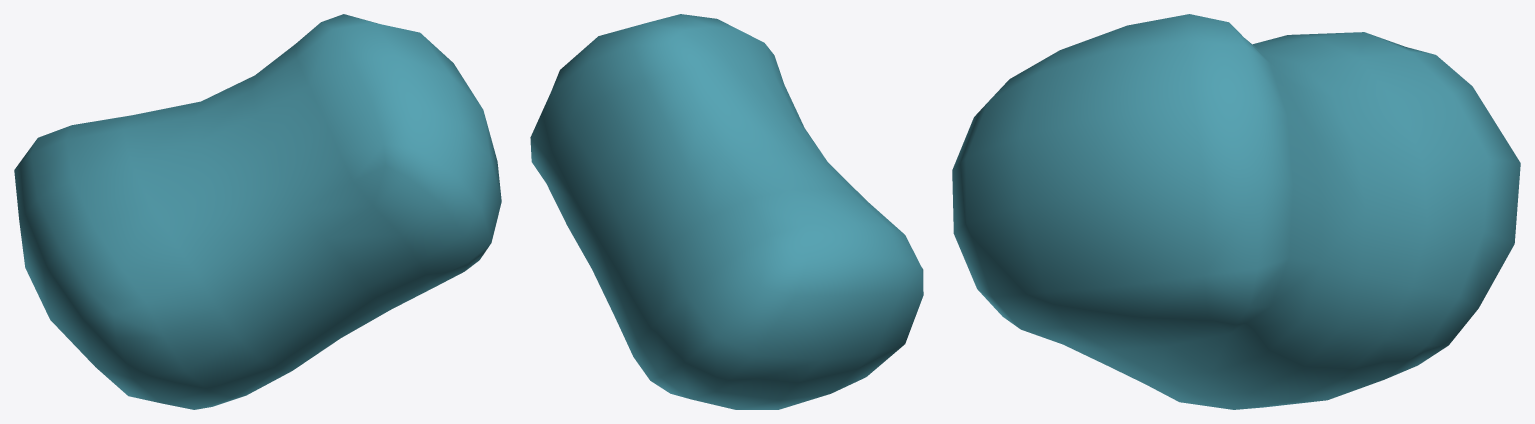
Rendered from VIS_Alpha_Surface_017.dae.
3 views of the same model, side by side, from view 1: azimuth 30°, elevation 25°; view 2: azimuth 150°, elevation 25°; view 3: azimuth 270°, elevation 25° (orthographic). The views are drawn at different scales.
Parts seen in each view (by area): view 1: VIS_Alpha_Surface_017; view 2: VIS_Alpha_Surface_017; view 3: VIS_Alpha_Surface_017.
Part boxes in pixels (bbox=[...]): VIS_Alpha_Surface_017: bbox=[14, 14, 501, 409]; VIS_Alpha_Surface_017: bbox=[530, 14, 923, 409]; VIS_Alpha_Surface_017: bbox=[952, 14, 1520, 409].
Bounding box in the file's own units: 4.26 × 3.96 × 3.48.
